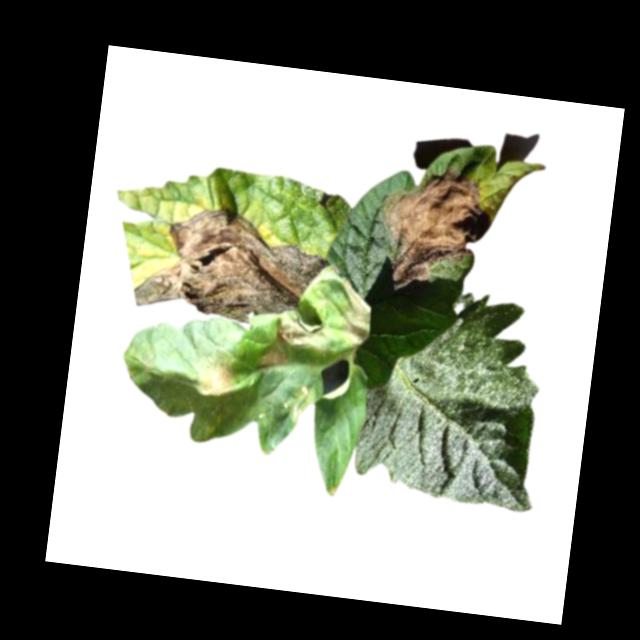Late_blight: (129, 196, 334, 332), (370, 155, 499, 300), (335, 277, 376, 352), (271, 312, 331, 356), (190, 350, 238, 401), (283, 382, 321, 422), (256, 342, 288, 375)
healthy: (350, 282, 557, 515)
